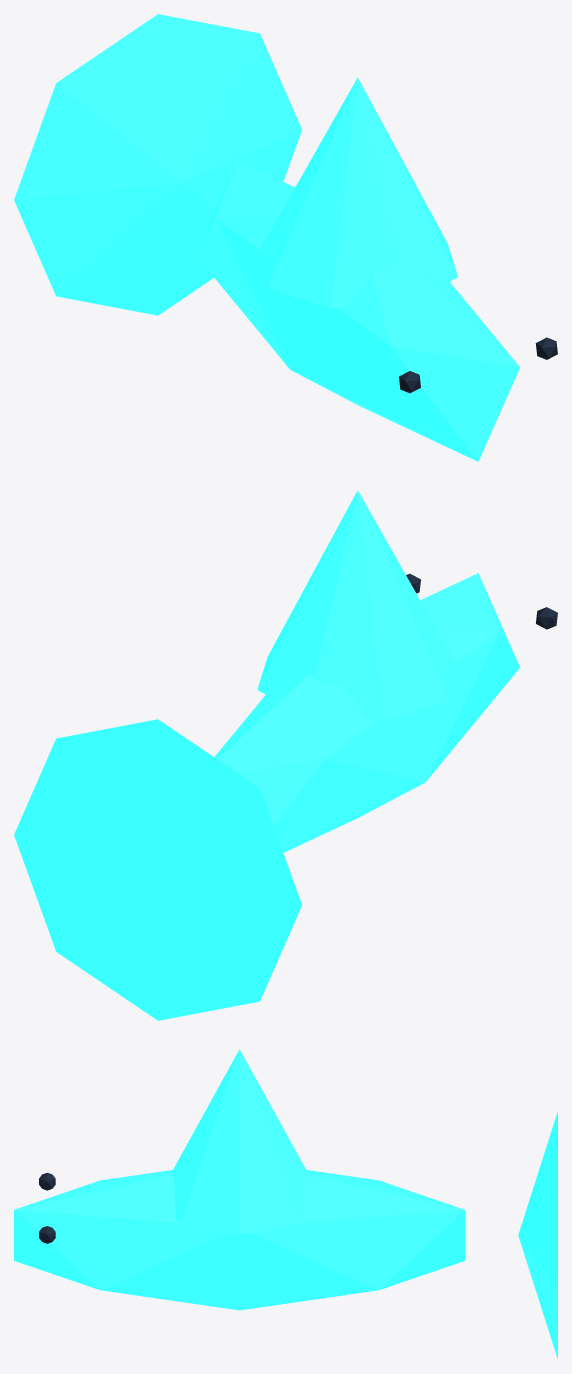
Rendered from PROP_fish-blue_scene_20261005.glb.
3 views of the same model, one above another, from view 1: azimuth 30°, elevation 25°; view 2: azimuth 150°, elevation 25°; view 3: azimuth 270°, elevation 25° (orthographic). The views are drawn at different scales.
Parts seen in each view (by area): view 1: FAUNA_Tail.001, FAUNA_Body.001, FAUNA_Dorsal.001; view 2: FAUNA_Tail.001, FAUNA_Body.001, FAUNA_Dorsal.001; view 3: FAUNA_Body.001, FAUNA_Dorsal.001, FAUNA_Tail.001.
Boxes of the visible parts, x1,y1,x2,y2 form: FAUNA_Tail.001: (14,14,301,315); FAUNA_Body.001: (195,160,519,461); FAUNA_Dorsal.001: (257,77,457,308); FAUNA_Tail.001: (14,719,301,1020); FAUNA_Body.001: (214,573,519,852); FAUNA_Dorsal.001: (257,490,458,720); FAUNA_Body.001: (14,1170,465,1310); FAUNA_Dorsal.001: (171,1049,308,1234); FAUNA_Tail.001: (518,1111,557,1358).
Size of the model in its own units: 0.8 by 1.02 by 1.64.
